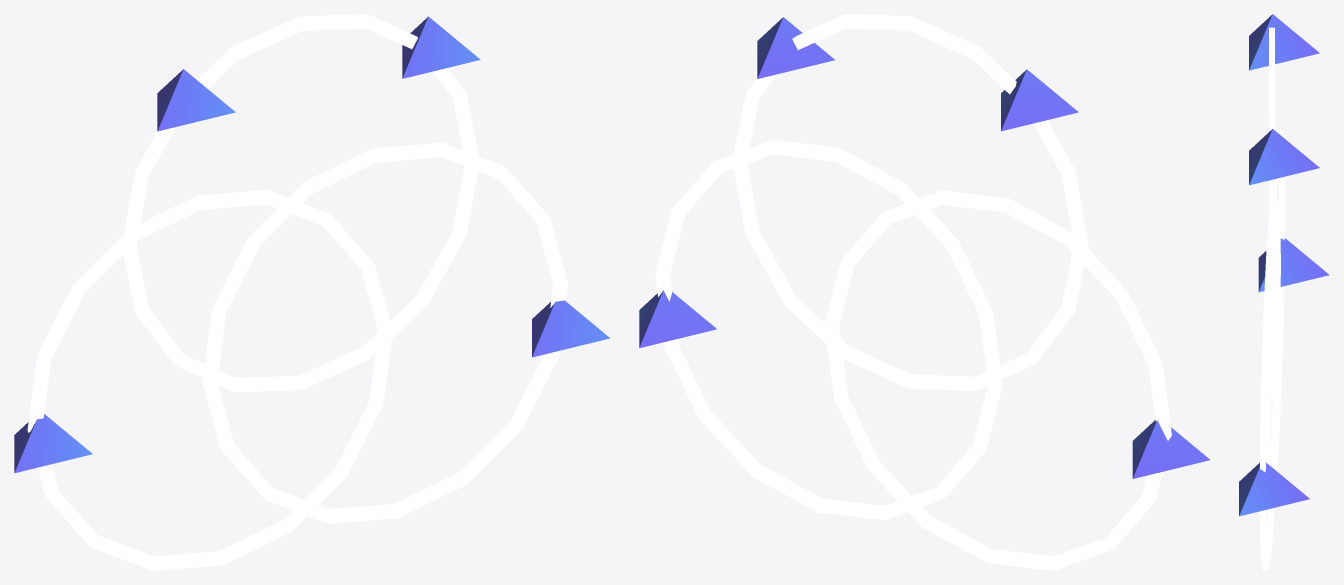
The model's file is Triqueta_B.glb.
3 renders of one model, left to right at view 1: azimuth 30°, elevation 25°; view 2: azimuth 150°, elevation 25°; view 3: azimuth 270°, elevation 25°, orthographic. The views are drawn at different scales.
Visible parts, largest first — view 1: Cone.003; view 2: Cone.003; view 3: Cone.003.
Part boxes in pixels (x1,y1,x2,y2): Cone.003: [14, 14, 609, 570]; Cone.003: [639, 14, 1209, 570]; Cone.003: [1239, 14, 1329, 570].
Size of what is drawn, in the model's own units: 1.83 by 1.58 by 0.2709.
2 materials, 1 textured.
